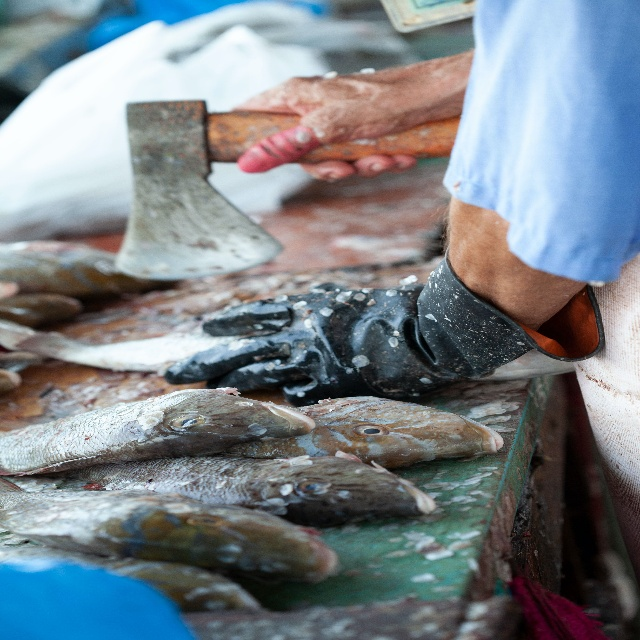Guantes: (165, 257, 605, 397)
Sin_guantes: (235, 74, 417, 185)
